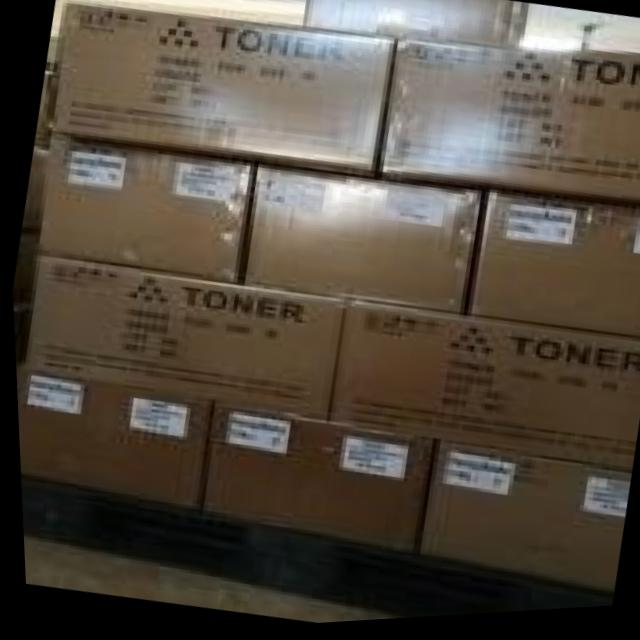box: (51, 3, 393, 182), (326, 301, 640, 478), (17, 256, 337, 419), (380, 46, 640, 213), (238, 170, 480, 321), (197, 403, 429, 558), (415, 444, 627, 599), (32, 134, 249, 284), (13, 373, 208, 511), (464, 198, 640, 345), (302, 0, 525, 52)
